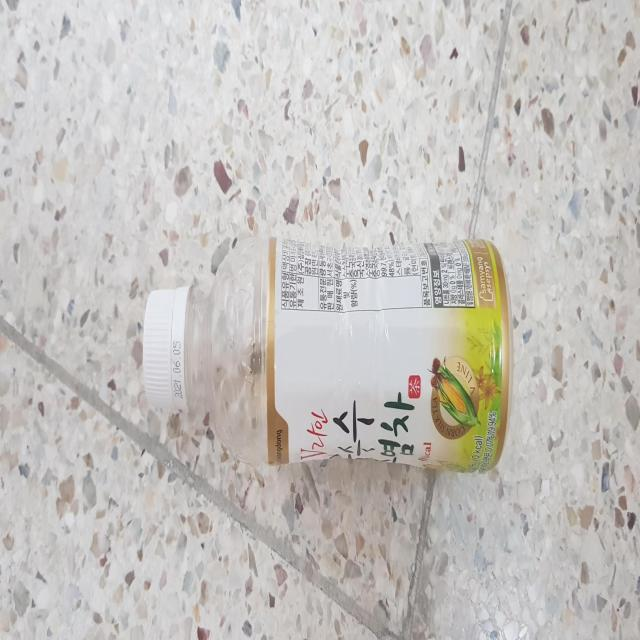plastic: (142, 236, 514, 472)
